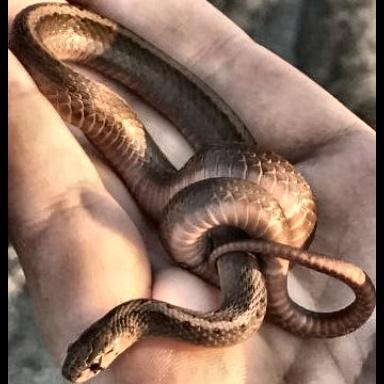snake: (10, 0, 374, 384)
